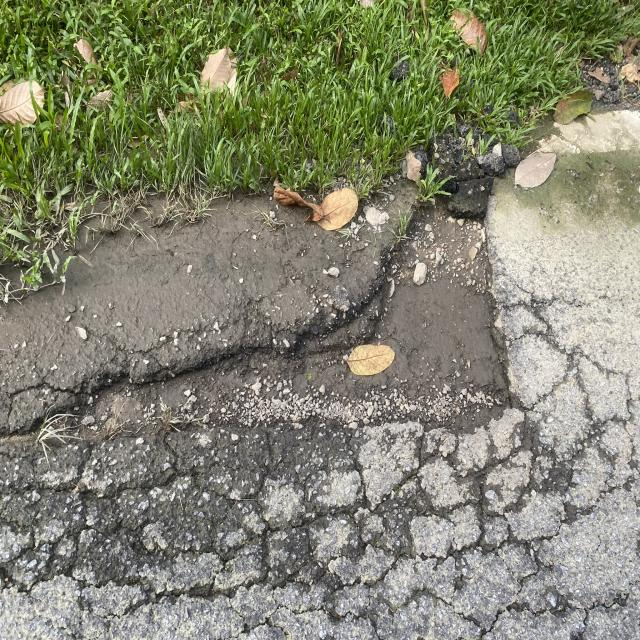pothole: (65, 270, 577, 438)
